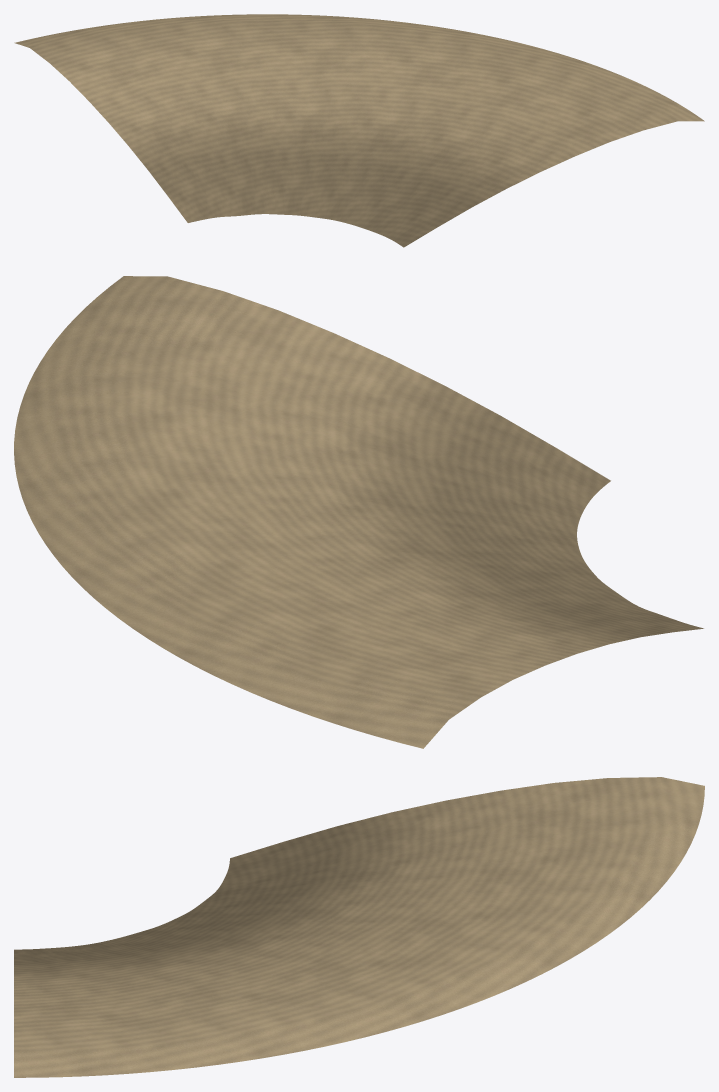
Rendered from beach_sand_inner_v5_autumn.glb.
The picture shows the model from 3 angles, top to bottom: view 1: azimuth 30°, elevation 25°; view 2: azimuth 150°, elevation 25°; view 3: azimuth 270°, elevation 25°; orthographic projection. The views are drawn at different scales.
Parts seen in each view (by area): view 1: beach_sand_inner; view 2: beach_sand_inner; view 3: beach_sand_inner.
Boxes of the visible parts, bbox=[...] form: beach_sand_inner: bbox=[14, 14, 704, 247]; beach_sand_inner: bbox=[14, 276, 703, 748]; beach_sand_inner: bbox=[14, 777, 704, 1077].
Size of the model in its own units: 6.4 by 0.8495 by 6.4.
Materials: 1 (1 with a texture image).
